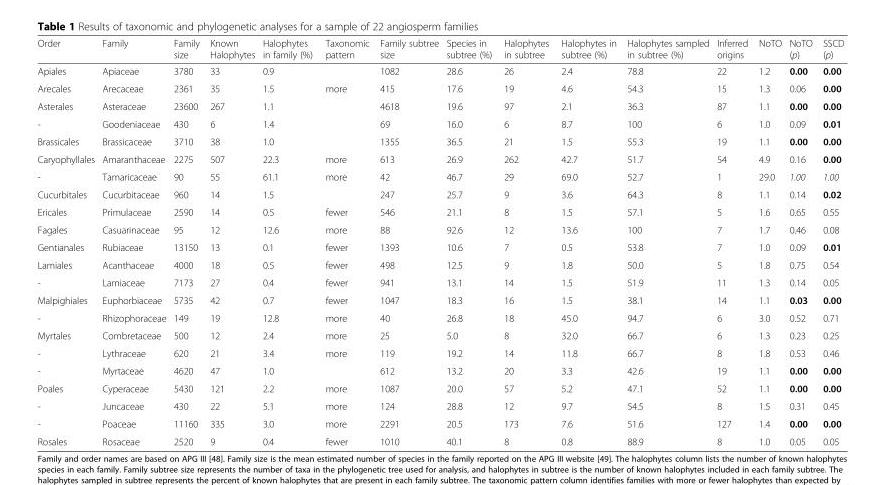table: (36, 37, 843, 446)
table column: (621, 37, 712, 446), (97, 37, 169, 446), (374, 37, 441, 446), (554, 37, 621, 446), (36, 37, 97, 446), (258, 37, 318, 446), (497, 37, 554, 446), (318, 37, 374, 446), (441, 37, 497, 446), (204, 37, 258, 446), (712, 37, 752, 446), (169, 37, 204, 446), (752, 37, 784, 446), (784, 37, 816, 446), (816, 37, 843, 446)
table column header: (36, 37, 843, 62)
table row: (36, 37, 843, 62), (36, 96, 843, 114), (36, 114, 843, 132), (36, 149, 843, 167), (36, 167, 843, 185), (36, 202, 843, 220), (36, 220, 843, 238), (36, 255, 843, 273), (36, 290, 843, 308), (36, 308, 843, 326), (36, 326, 843, 344), (36, 361, 843, 379), (36, 396, 843, 414), (36, 414, 843, 432), (36, 62, 843, 79), (36, 79, 843, 96), (36, 132, 843, 149), (36, 185, 843, 202), (36, 238, 843, 255), (36, 273, 843, 290), (36, 344, 843, 361), (36, 379, 843, 396), (36, 432, 843, 446)
